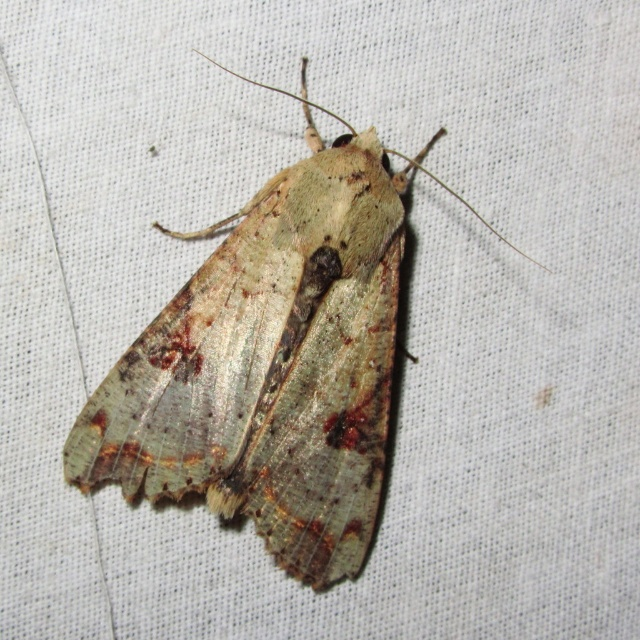Butterfly: (69, 50, 419, 558)
